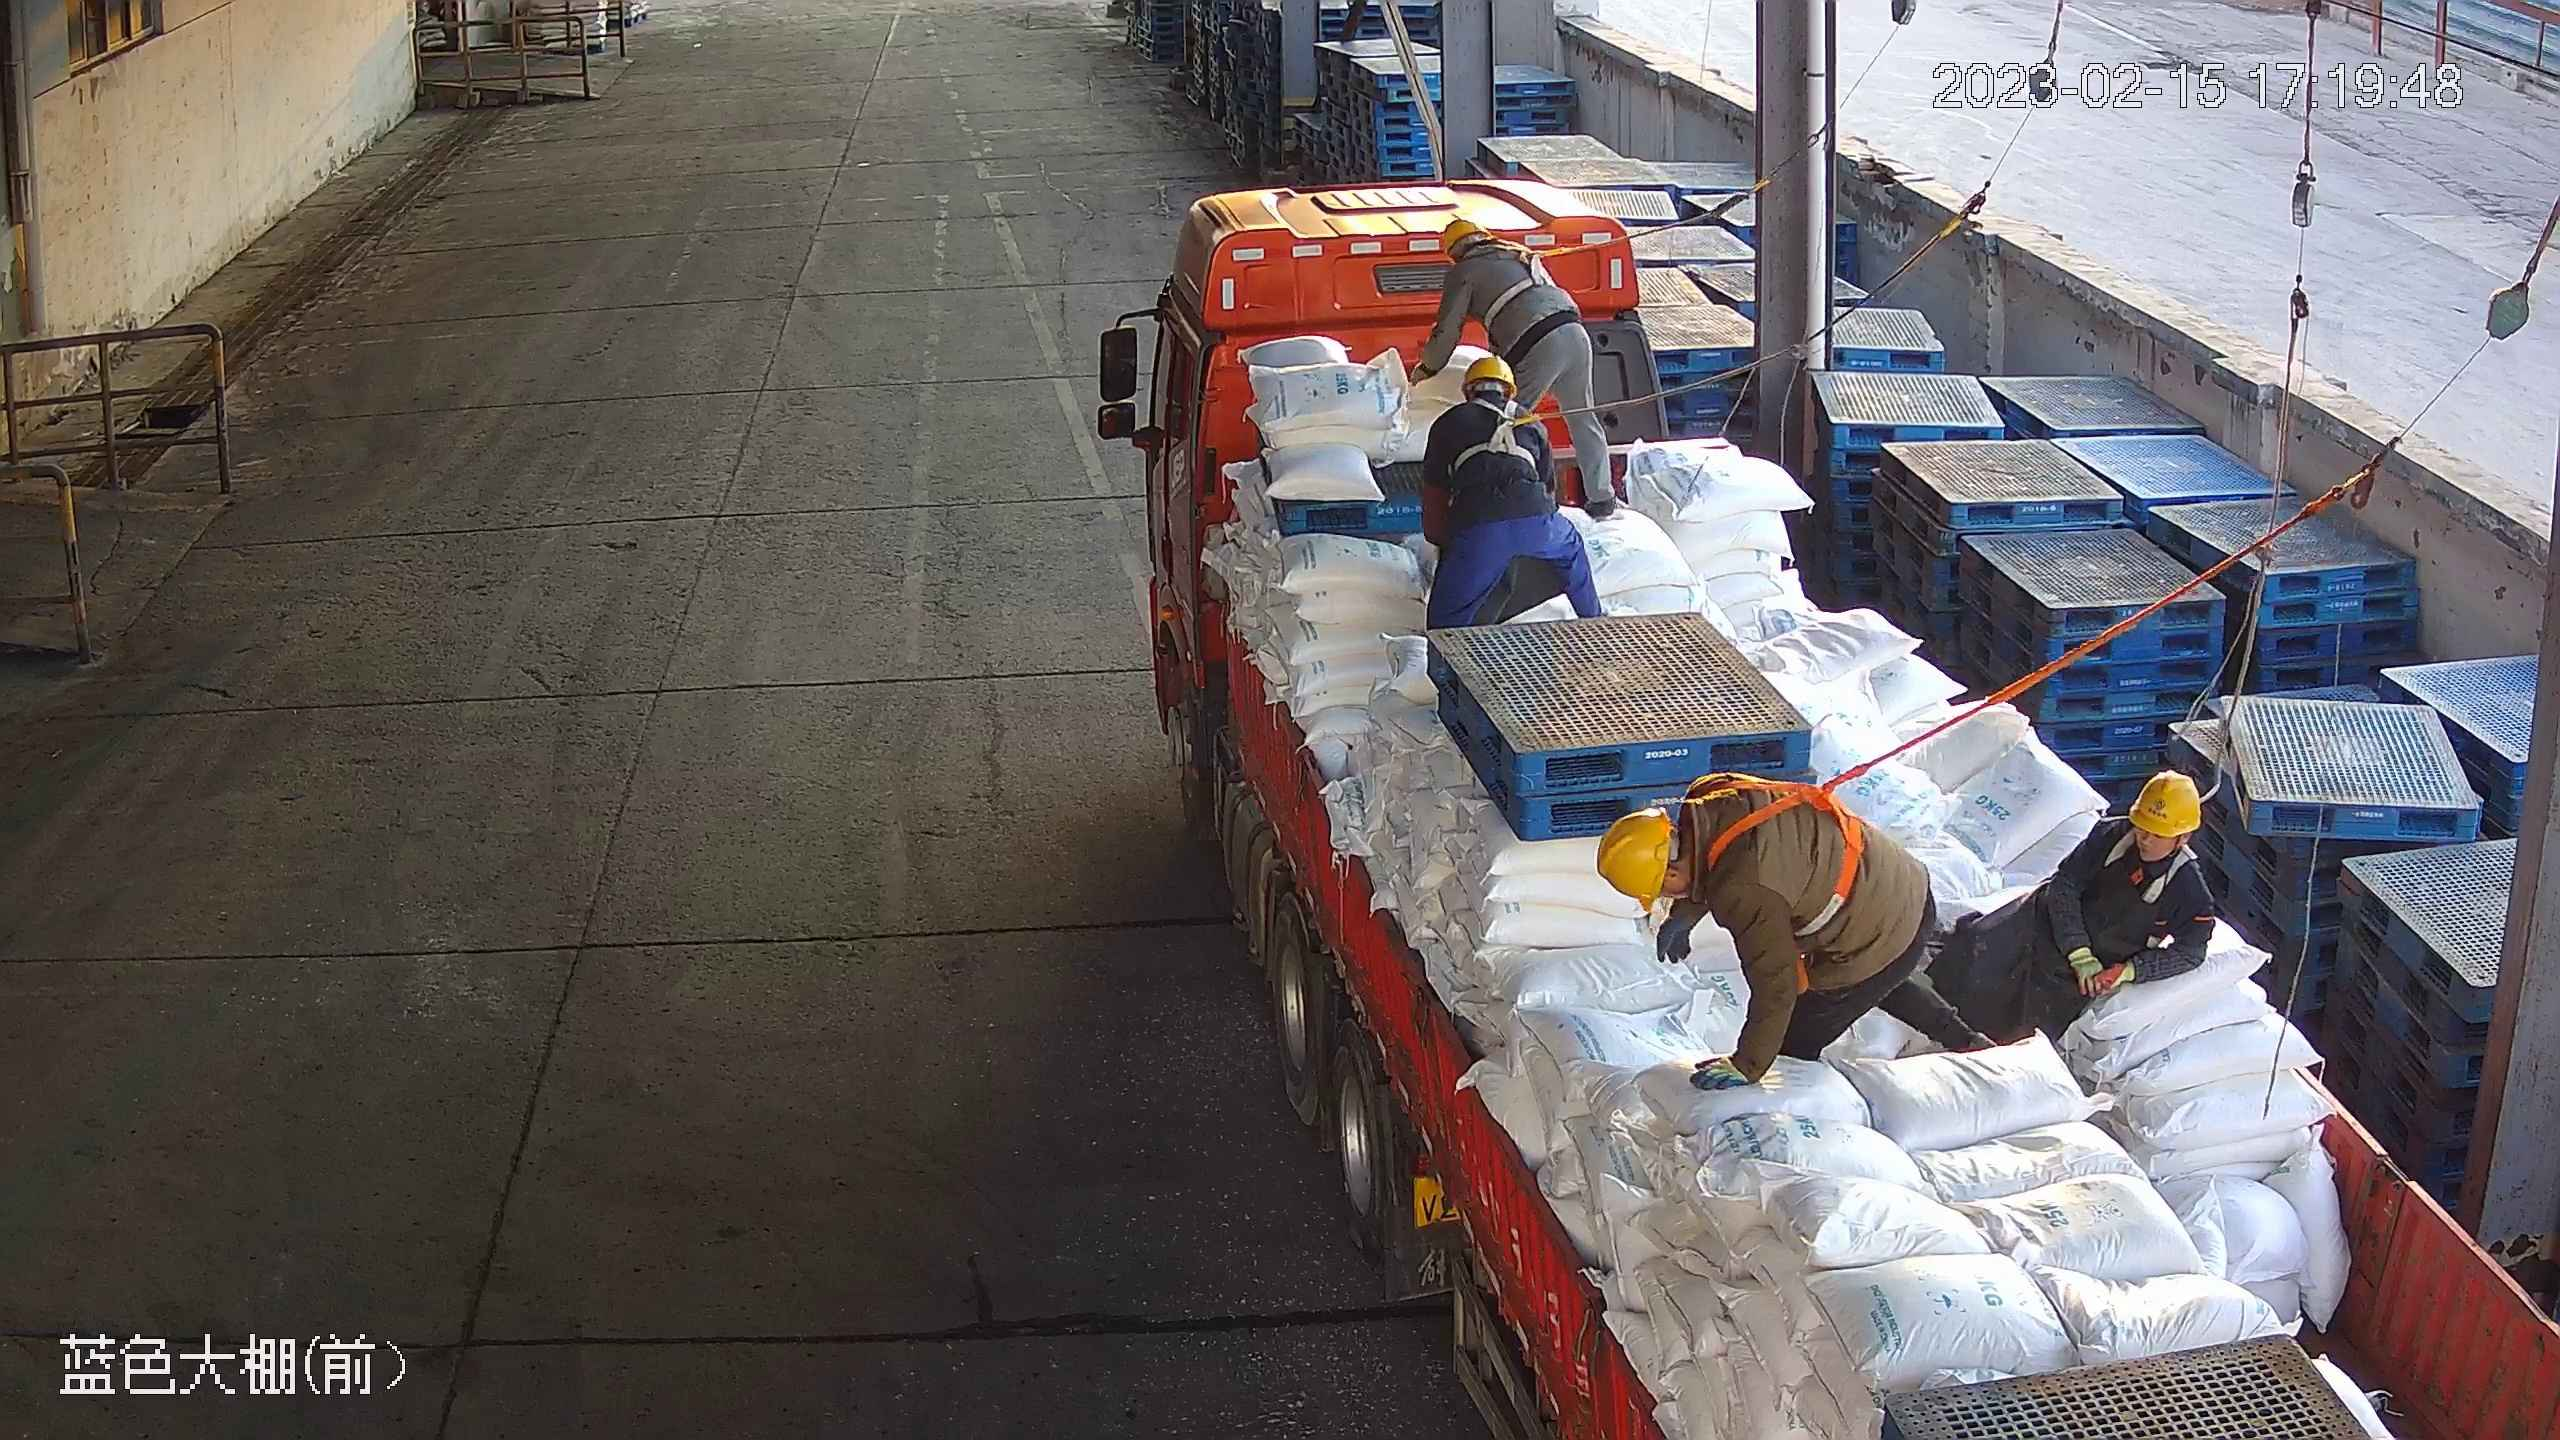belt: (1692, 775, 1861, 937), (1464, 238, 1558, 327), (2102, 825, 2200, 905), (1447, 396, 1544, 473)
head: (1597, 771, 1789, 928), (2076, 767, 2216, 938), (1422, 352, 1549, 443), (1441, 218, 1533, 292)
helmet: (1596, 806, 1668, 911), (2129, 768, 2201, 838), (1462, 355, 1517, 395), (1442, 218, 1488, 254)
people: (1597, 771, 1936, 1092), (1926, 768, 2215, 1052), (1409, 213, 1615, 518), (1421, 350, 1601, 629)
truck: (1099, 180, 2560, 1440)
